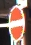No entry: (6, 5, 26, 39)
